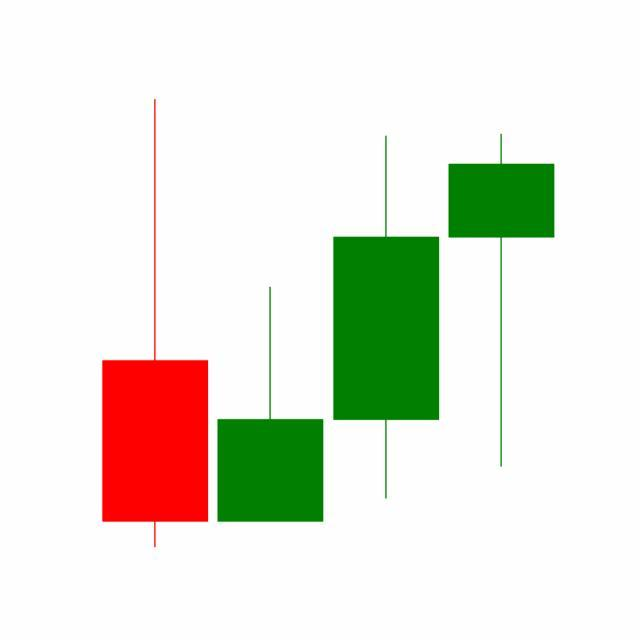Dragonfly Doji: (444, 131, 560, 471)
